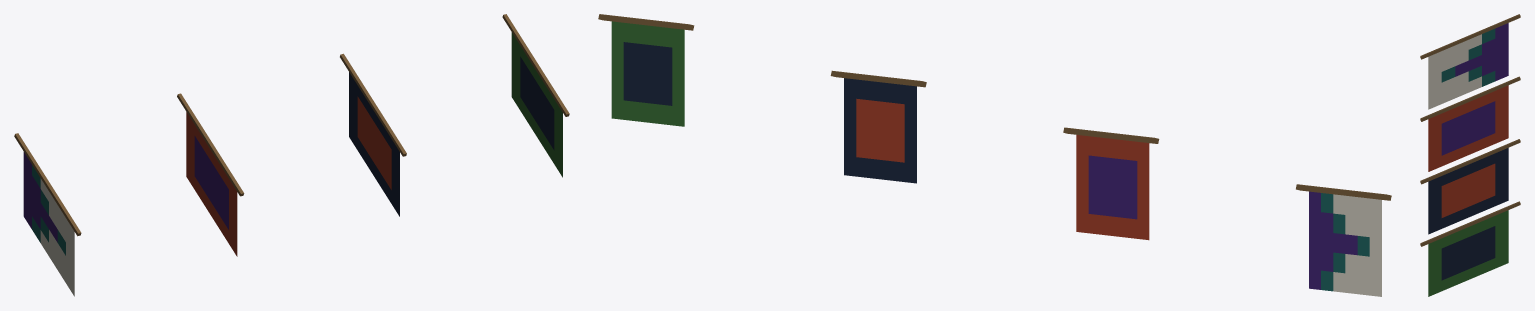
The model's file is board.flags.first.glb.
3 renders of one model, left to right at view 1: azimuth 30°, elevation 25°; view 2: azimuth 150°, elevation 25°; view 3: azimuth 270°, elevation 25°, orthographic. The views are drawn at different scales.
Visible parts, largest first — view 1: board_flags_first; view 2: board_flags_first; view 3: board_flags_first.
Part boxes in pixels (box(x1,y1,x2,y2)): board_flags_first: box(14, 14, 569, 296); board_flags_first: box(598, 14, 1391, 296); board_flags_first: box(1420, 14, 1520, 296).
Size of what is drawn, in the model's own units: 5.28 by 1.24 by 1.19.
